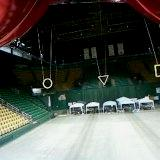Yellow_Circle_GShape: (43, 77, 54, 88)
Yellow_Square_GShape: (154, 64, 160, 78)
Yellow_Triangle_Gshape: (98, 75, 109, 86)
